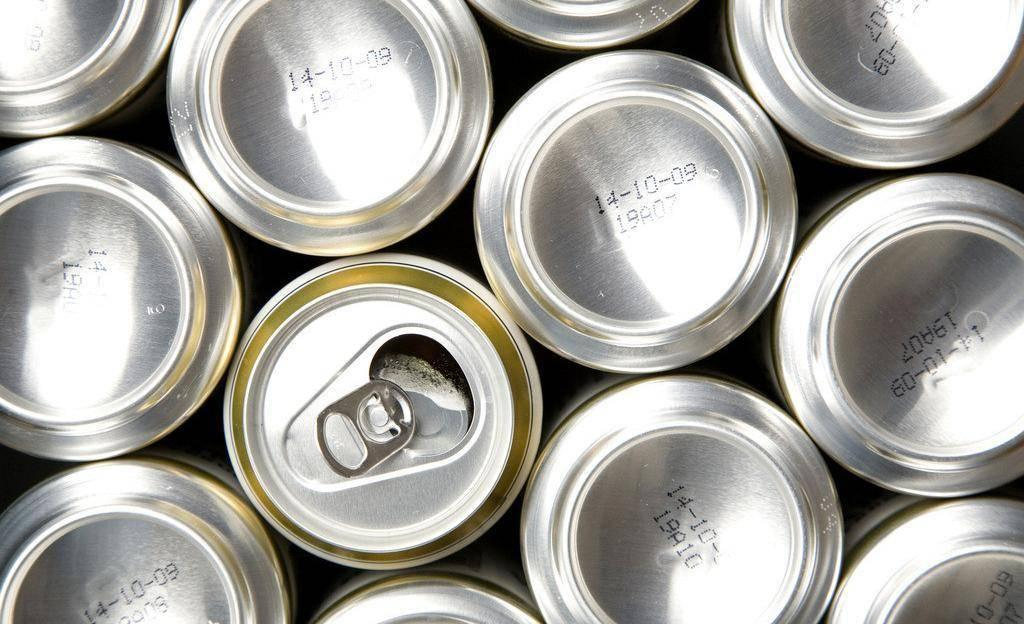metal: (475, 51, 795, 372), (225, 255, 540, 567), (168, 0, 490, 256), (774, 174, 1023, 496), (522, 375, 841, 623), (0, 136, 242, 460), (729, 0, 1023, 168), (0, 456, 293, 623), (829, 496, 1023, 623), (313, 571, 541, 623), (469, 0, 697, 50)
